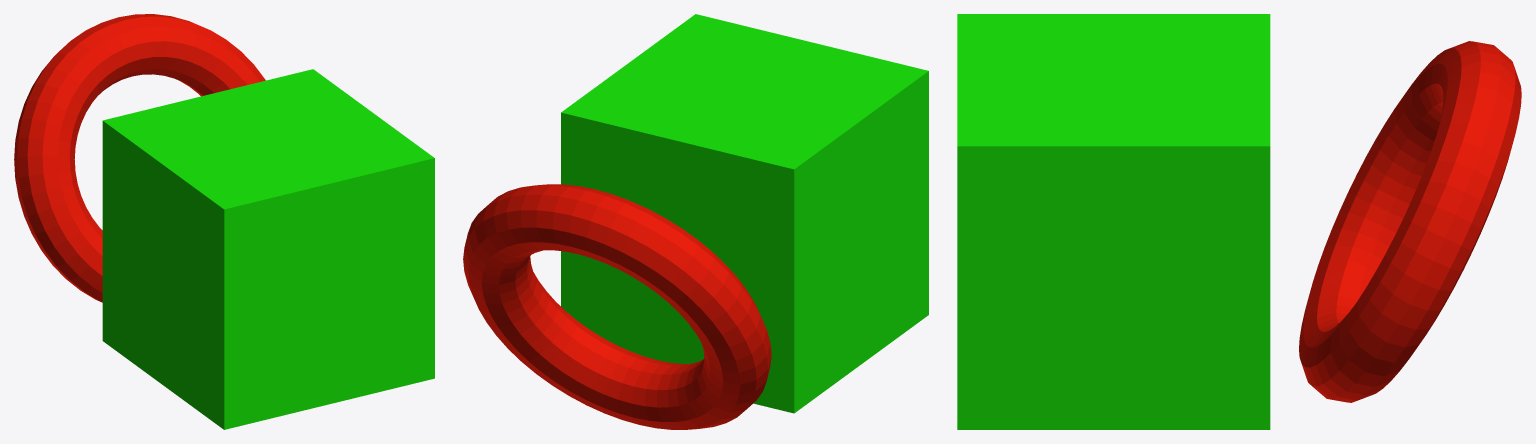
3 renders of one model, left to right at view 1: azimuth 30°, elevation 25°; view 2: azimuth 150°, elevation 25°; view 3: azimuth 270°, elevation 25°, orthographic. The views are drawn at different scales.
Parts seen in each view (by area): view 1: Cube, Torus; view 2: Cube, Torus; view 3: Cube, Torus.
Boxes of the visible parts, left/top/right/bottom form: Cube: left=102, top=69, right=434, bottom=429; Torus: left=14, top=14, right=265, bottom=302; Cube: left=561, top=14, right=928, bottom=413; Torus: left=463, top=184, right=771, bottom=429; Cube: left=957, top=14, right=1270, bottom=429; Torus: left=1299, top=41, right=1521, bottom=402.
Bounding box in the file's own units: 2.5 × 2.27 × 3.61.
